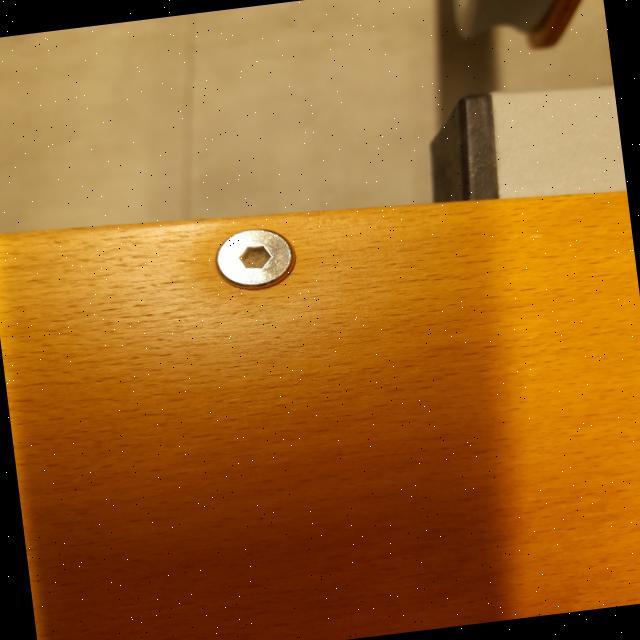Hex Socket Allen: (212, 223, 300, 294)
